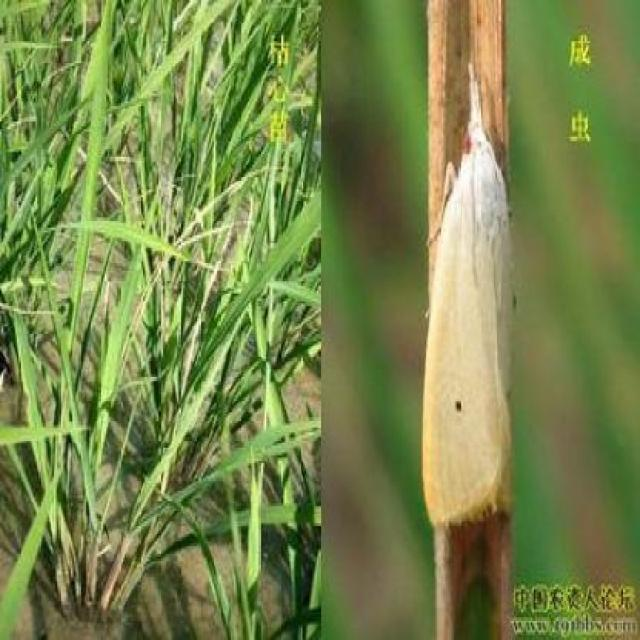stem-borer: (422, 58, 515, 530)
